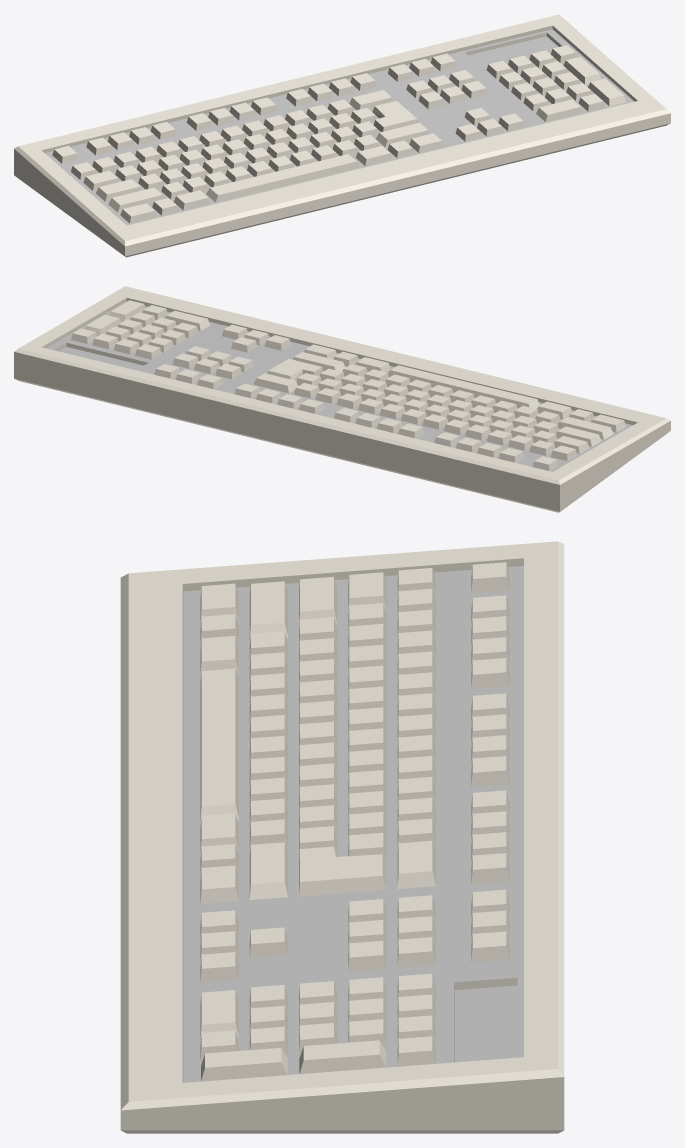
File: Keyboard.gltf
3 renders of one model, top to bottom at view 1: azimuth 30°, elevation 25°; view 2: azimuth 150°, elevation 25°; view 3: azimuth 270°, elevation 25°, orthographic. The views are drawn at different scales.
Visible parts, largest first — view 1: Nodes; view 2: Nodes; view 3: Nodes.
Part boxes in pixels (bbox=[...]): Nodes: bbox=[14, 14, 670, 257]; Nodes: bbox=[14, 286, 670, 512]; Nodes: bbox=[120, 541, 564, 1133].
Bounding box in the file's own units: 92.86 × 5.38 × 32.67.
Materials: 1 (1 with a texture image).
